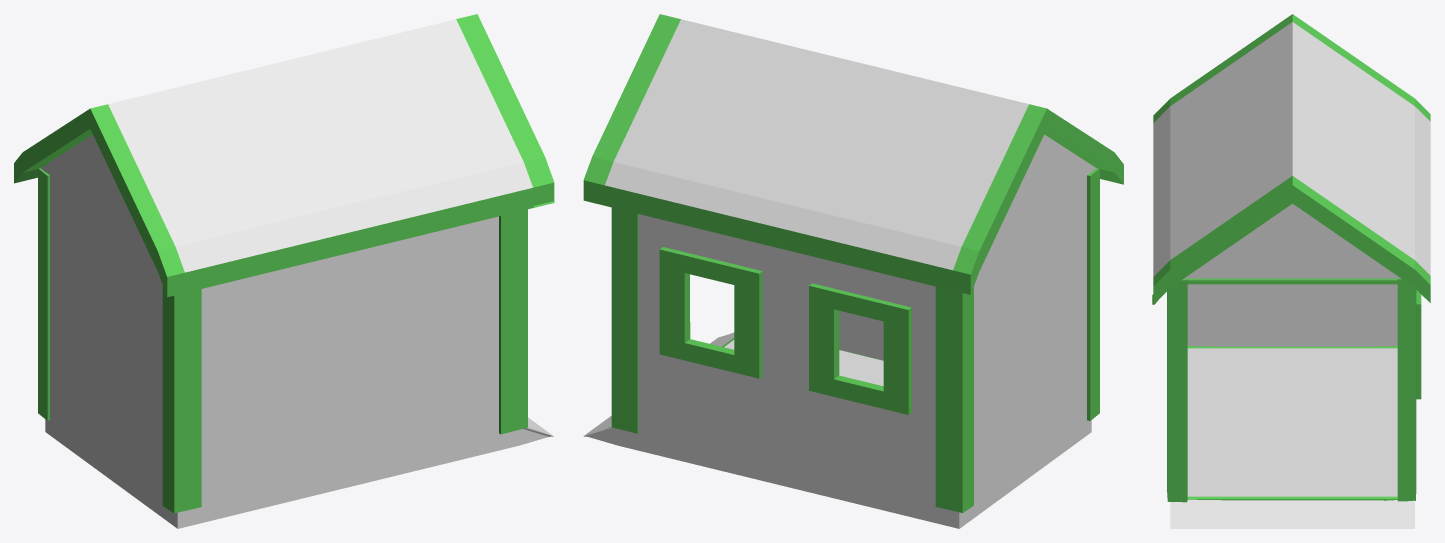
The model's file is house4.fbx.
The picture shows the model from 3 angles, left to right: view 1: azimuth 30°, elevation 25°; view 2: azimuth 150°, elevation 25°; view 3: azimuth 270°, elevation 25°; orthographic projection. The views are drawn at different scales.
Visible parts, largest first — view 1: Cube; view 2: Cube; view 3: Cube.
Part boxes in pixels (box(x1,y1,x2,y2)): Cube: box(14, 14, 554, 528); Cube: box(583, 14, 1123, 528); Cube: box(1152, 14, 1430, 528).
Size of the model in its own units: 818 by 744 by 549.
